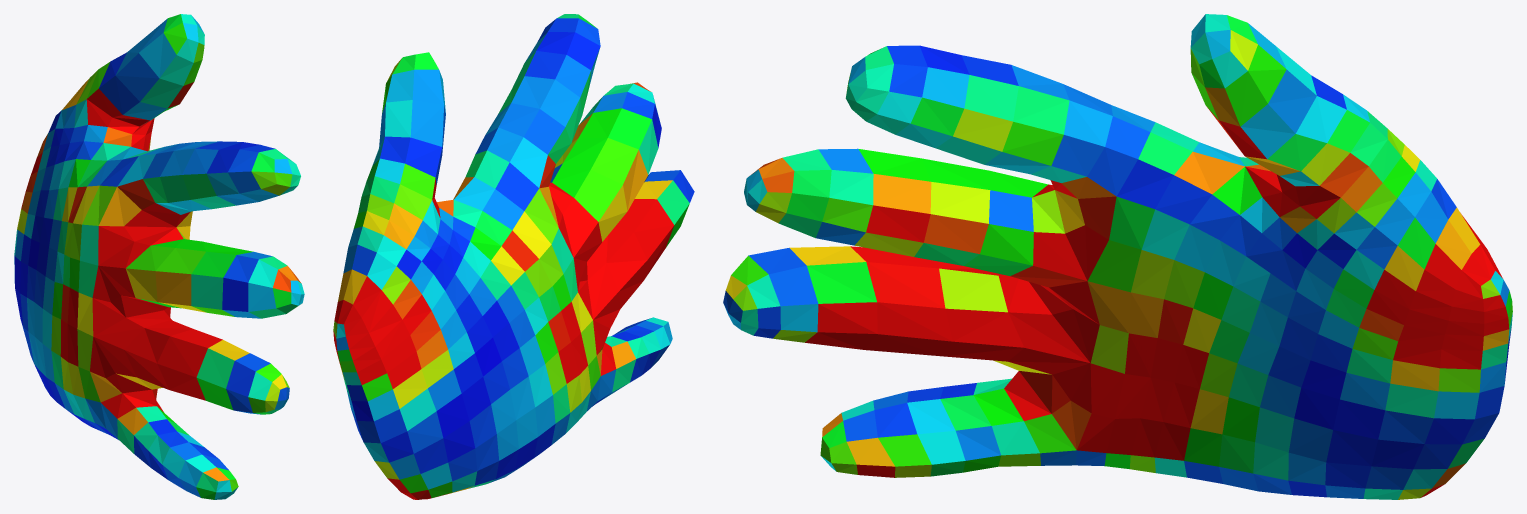
File: hand2_no_opt_quality.obj
3 views of the same model, side by side, from view 1: azimuth 30°, elevation 25°; view 2: azimuth 150°, elevation 25°; view 3: azimuth 270°, elevation 25° (orthographic). The views are drawn at different scales.
Size of the model in its own units: 10.62 by 24.19 by 31.89.
